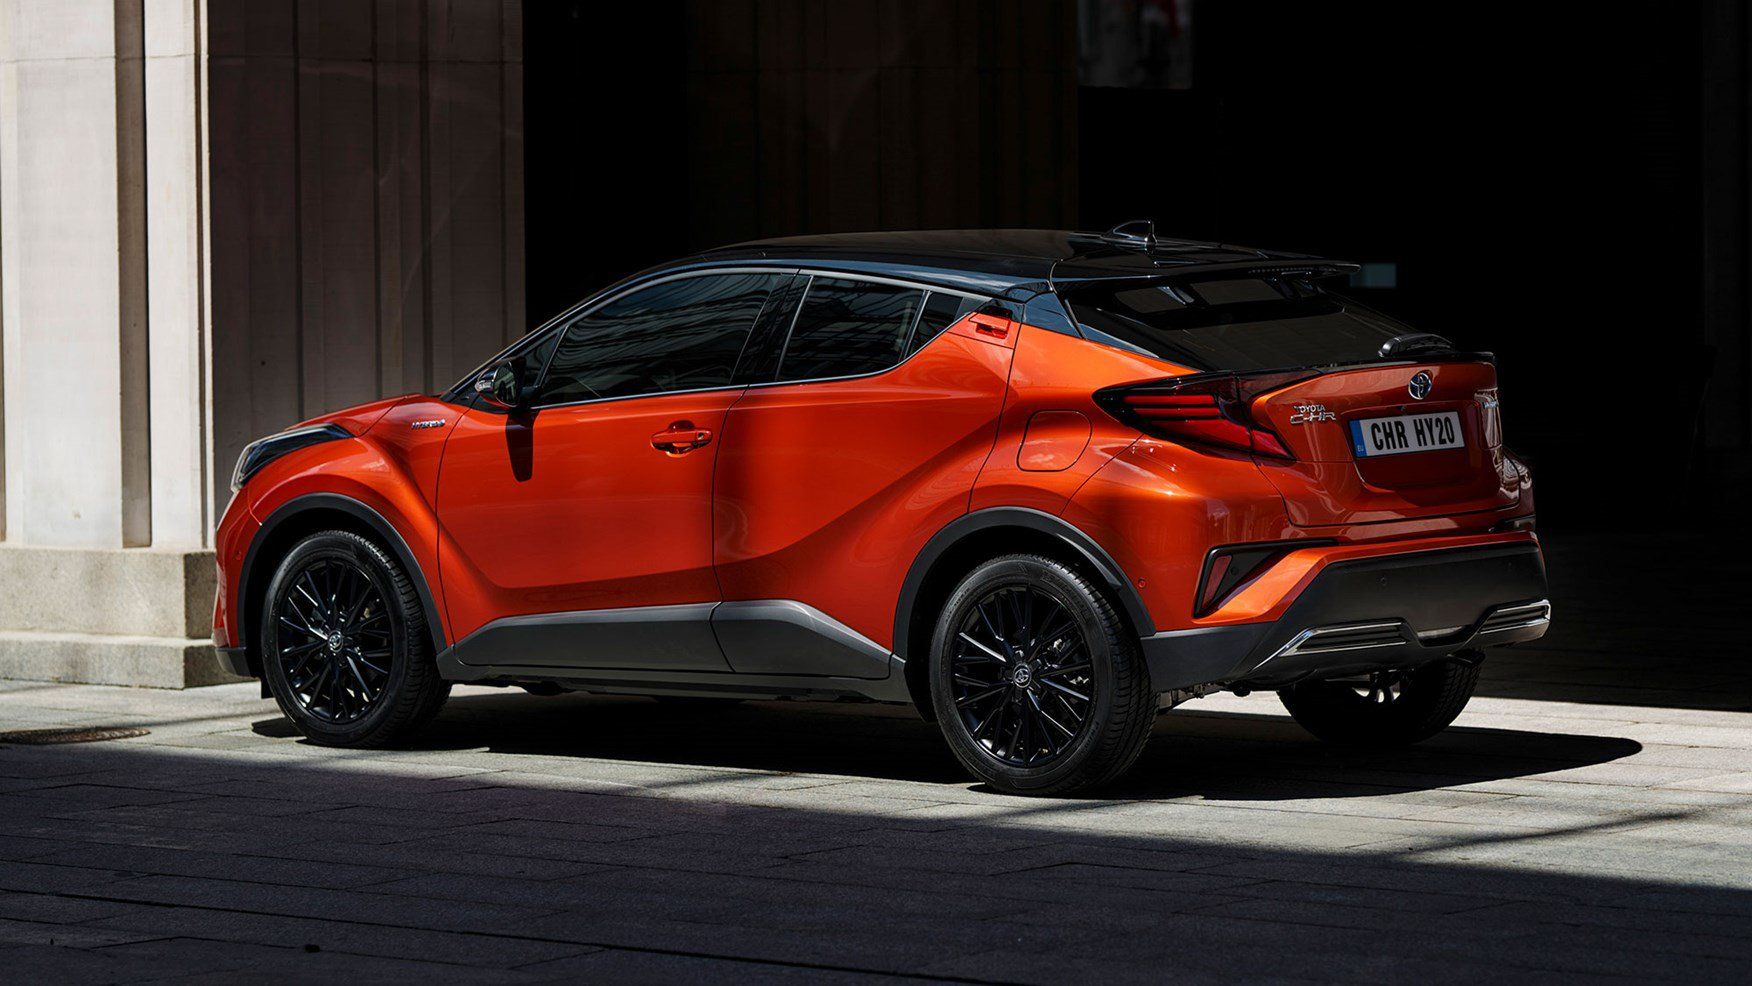car: (207, 211, 1568, 803)
